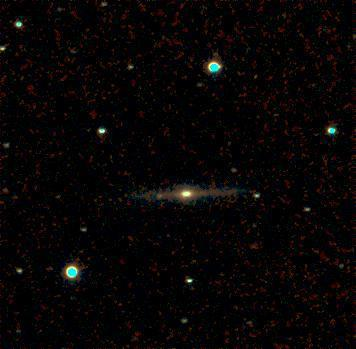star: (145, 183, 175, 213)
